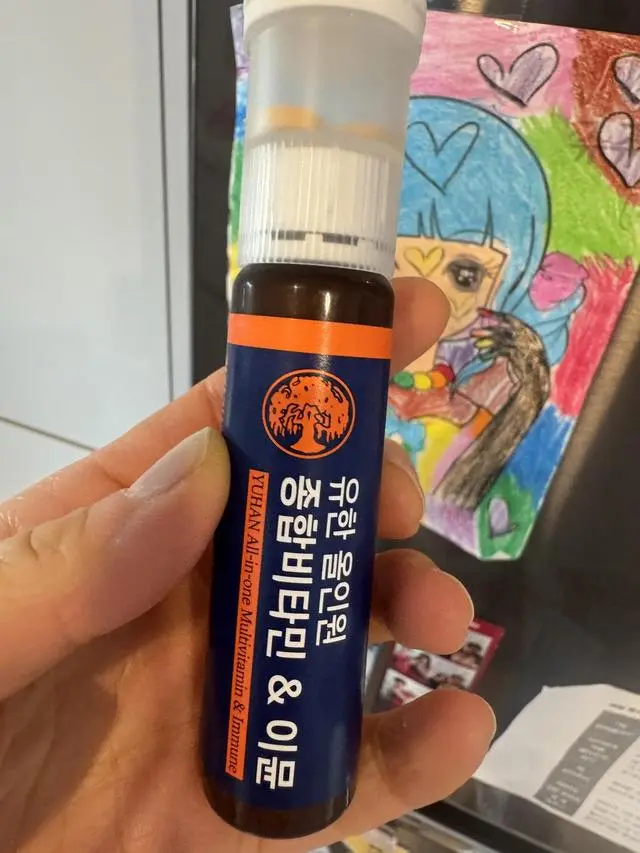supplement_label: (186, 344, 396, 803)
